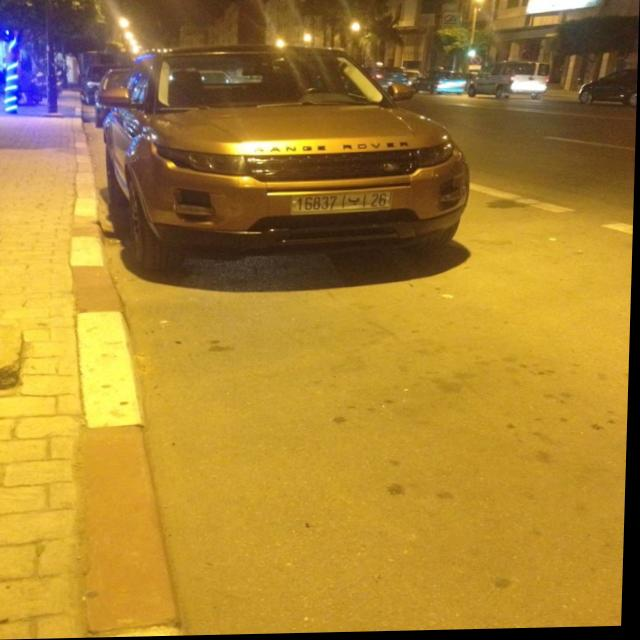License-Plate: (293, 193, 391, 213)
